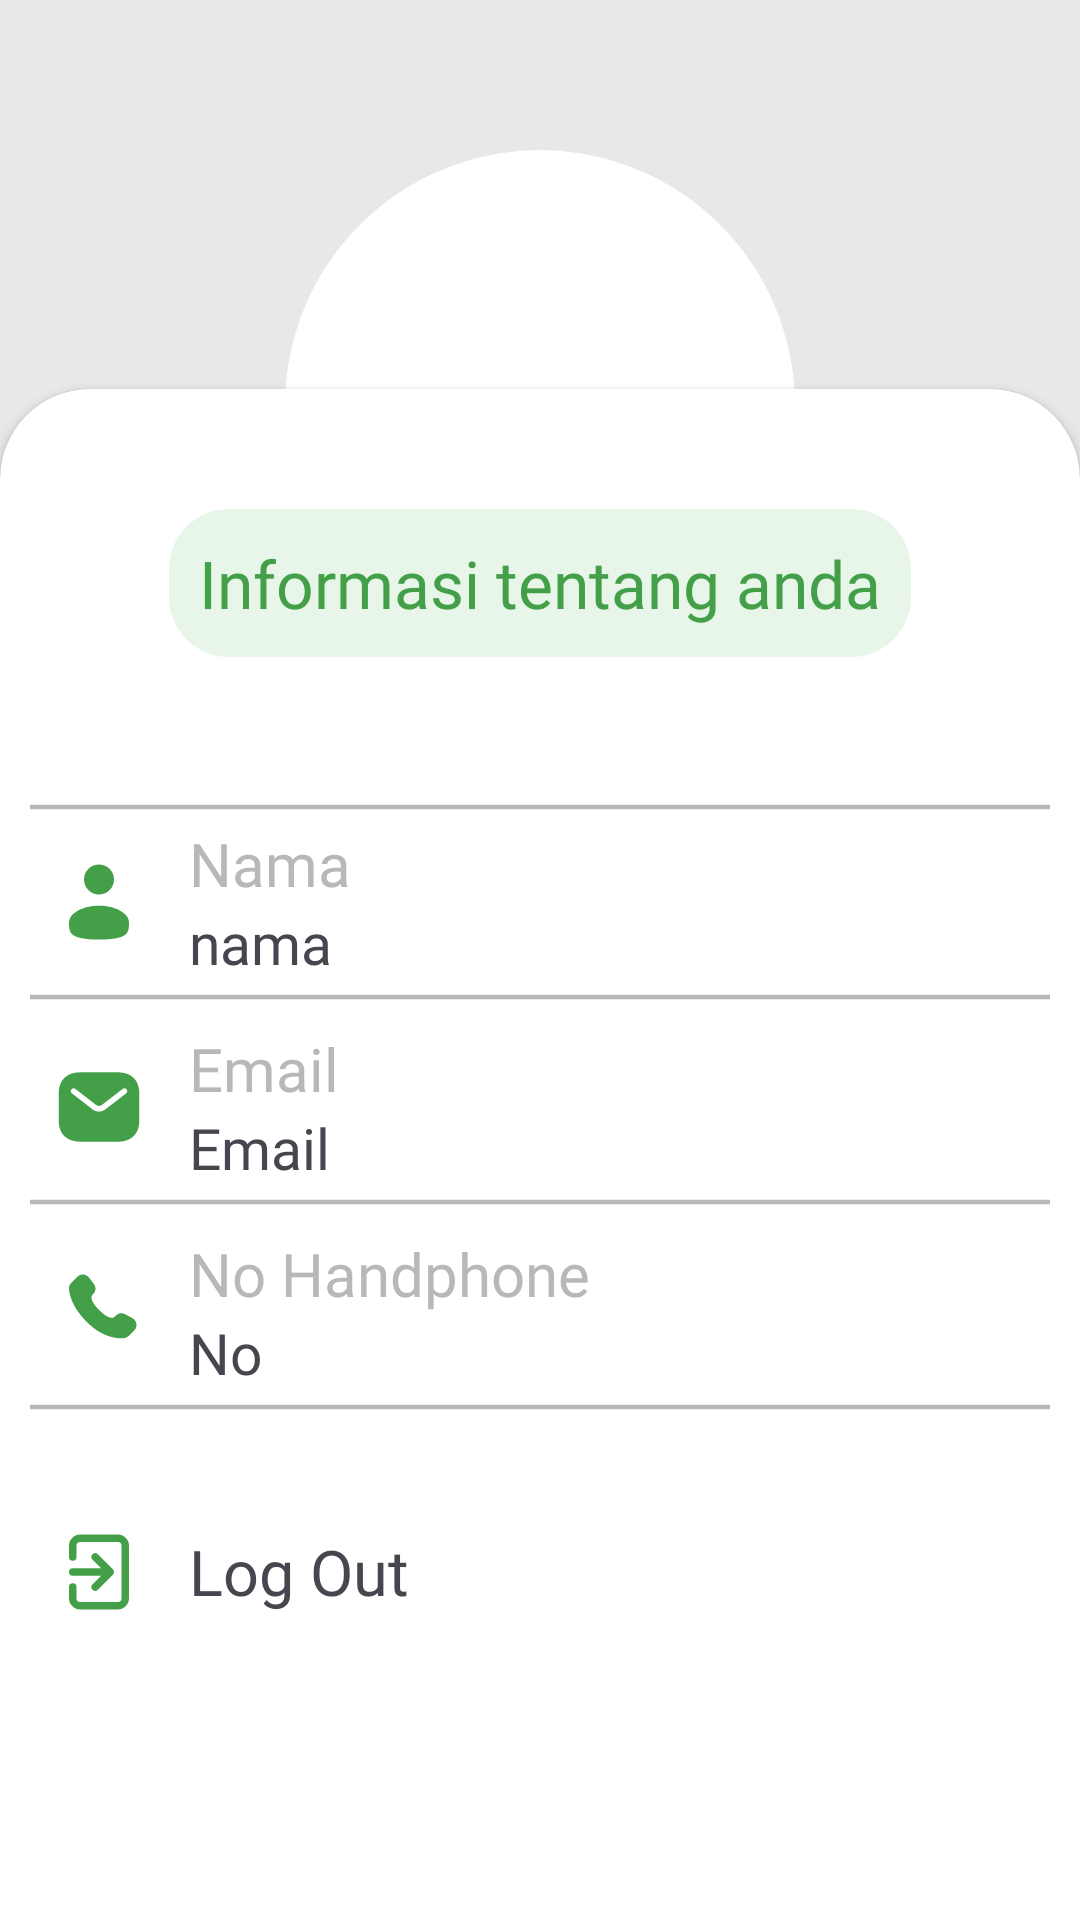

Icon click points for this 1080px x 1920px phone screenshot, format point (x, y):
user: point (99, 902)
